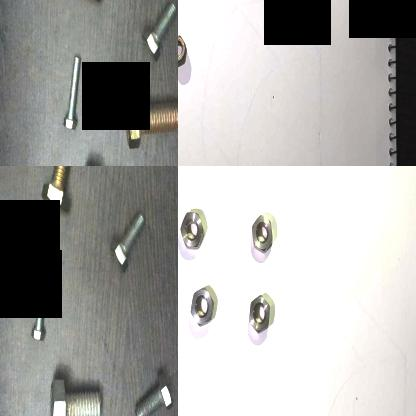Bolts: (120, 87, 178, 151), (44, 364, 105, 416), (110, 200, 148, 280), (26, 262, 58, 348), (137, 0, 178, 63), (133, 364, 178, 416), (60, 52, 86, 140), (39, 166, 80, 218)
NUTS: (178, 208, 204, 254), (188, 282, 214, 328), (249, 212, 274, 254), (247, 290, 271, 333), (178, 31, 187, 67)
